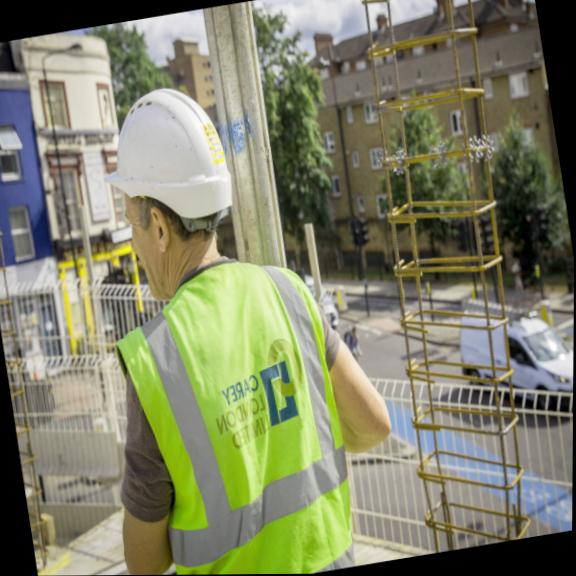safety_vest: (93, 249, 356, 575)
